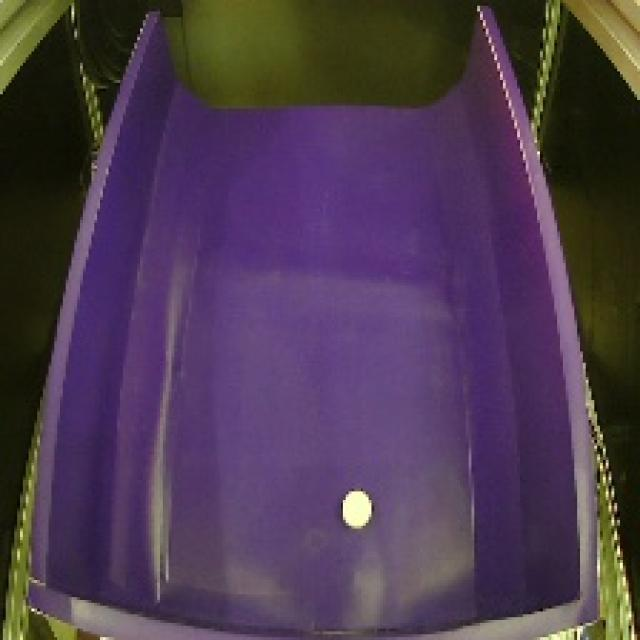small: (340, 488, 380, 532)
